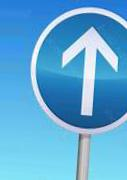forward: (30, 7, 127, 135)
